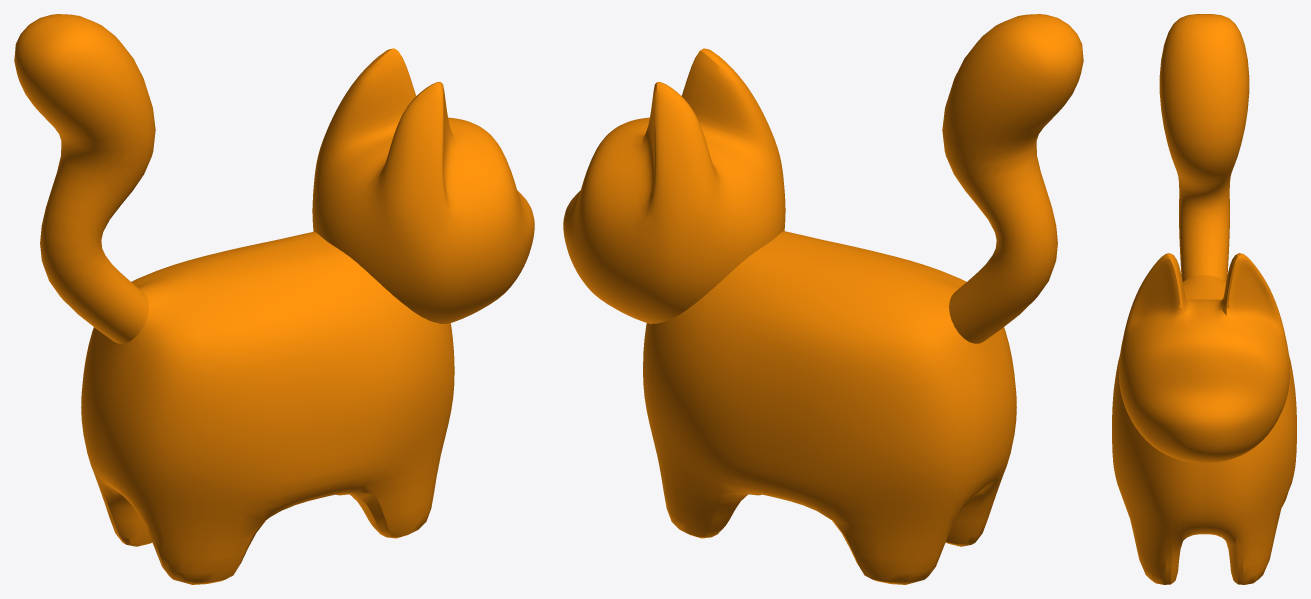
The model's file is gato.glb.
3 views of the same model, side by side, from view 1: azimuth 30°, elevation 25°; view 2: azimuth 150°, elevation 25°; view 3: azimuth 270°, elevation 25° (orthographic). The views are drawn at different scales.
Visible parts, largest first — view 1: GATO; view 2: GATO; view 3: GATO.
Part boxes in pixels (bbox=[...]): GATO: bbox=[14, 14, 534, 584]; GATO: bbox=[563, 14, 1083, 584]; GATO: bbox=[1112, 14, 1296, 584].
Size of the model in its own units: 14.96 by 16.07 by 6.07.
